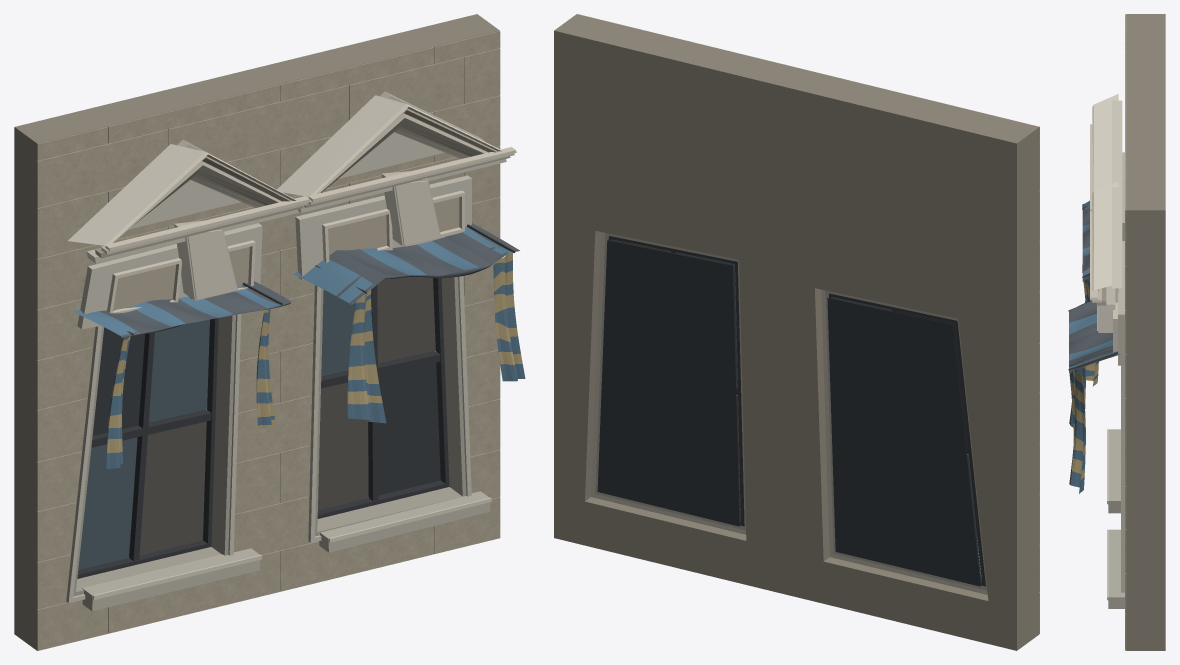
The model's file is huangpu-jiangxi-320-paired-pediment-windows-raw.glb.
3 views of the same model, side by side, from view 1: azimuth 30°, elevation 25°; view 2: azimuth 150°, elevation 25°; view 3: azimuth 270°, elevation 25° (orthographic). The views are drawn at different scales.
Parts seen in each view (by area): view 1: 道达大楼江西中路立面双三角窗楣与托座; view 2: 道达大楼江西中路立面双三角窗楣与托座; view 3: 道达大楼江西中路立面双三角窗楣与托座.
Boxes of the visible parts, x1,y1,x2,y2 form: 道达大楼江西中路立面双三角窗楣与托座: [14, 14, 525, 650]; 道达大楼江西中路立面双三角窗楣与托座: [554, 14, 1039, 650]; 道达大楼江西中路立面双三角窗楣与托座: [1068, 14, 1165, 650].
Bounding box in the file's own units: 4.2 × 4.4 × 0.8794.
16 materials, 1 textured.
